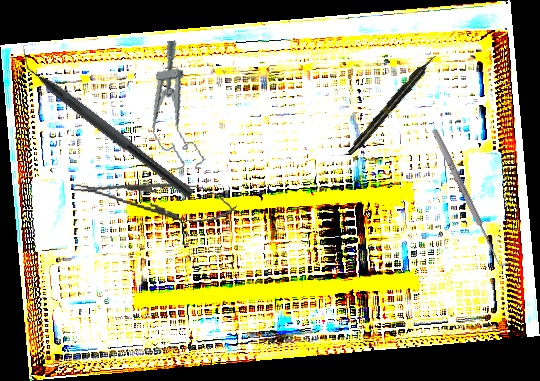Chopper: (9, 44, 204, 199)
Handpiece: (346, 52, 439, 157)
Hook Surgical: (429, 125, 511, 270)
Needle Holder: (72, 167, 239, 229)
Speculum: (139, 38, 206, 176)
